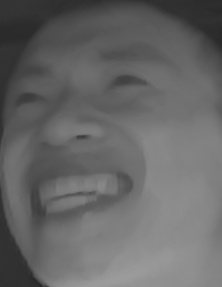eye: (7, 81, 62, 110), (95, 68, 154, 95)
mouth: (20, 160, 134, 222)
